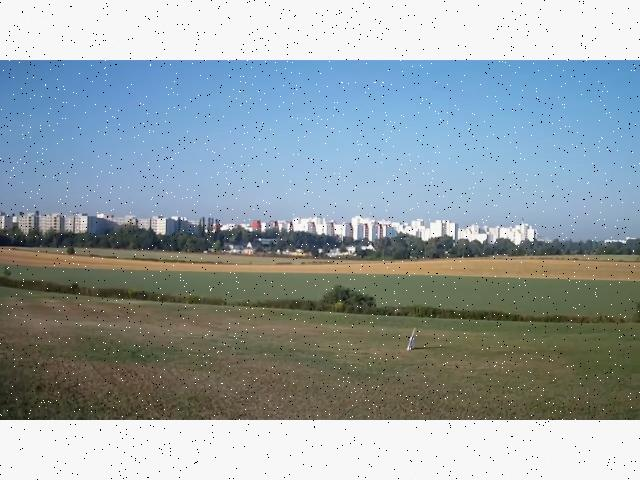Anti-Drone: (398, 322, 428, 354)
